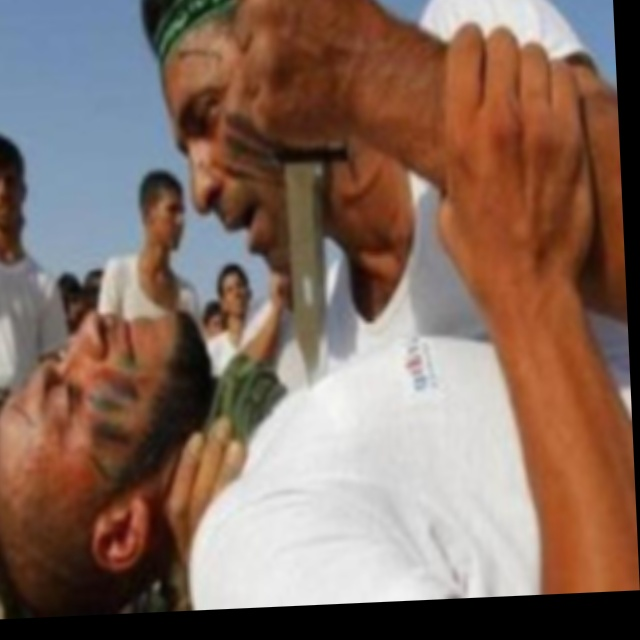Sharp-Object: (259, 0, 359, 388)
